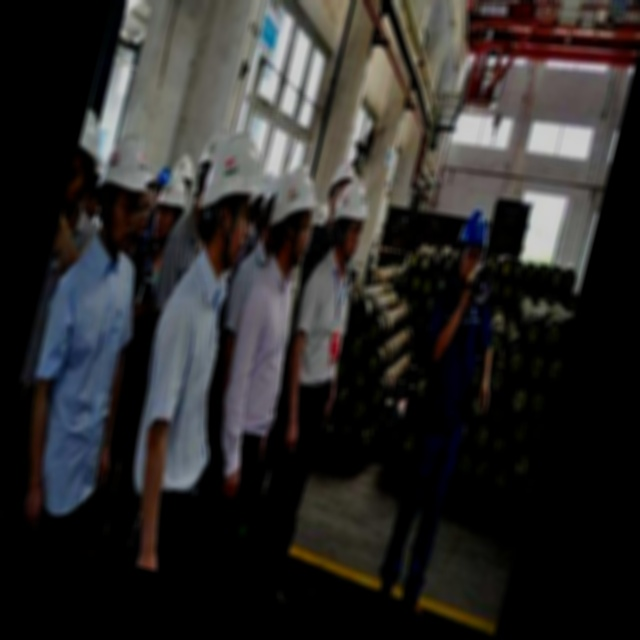Sin_Chaleco: (1, 242, 153, 523)
